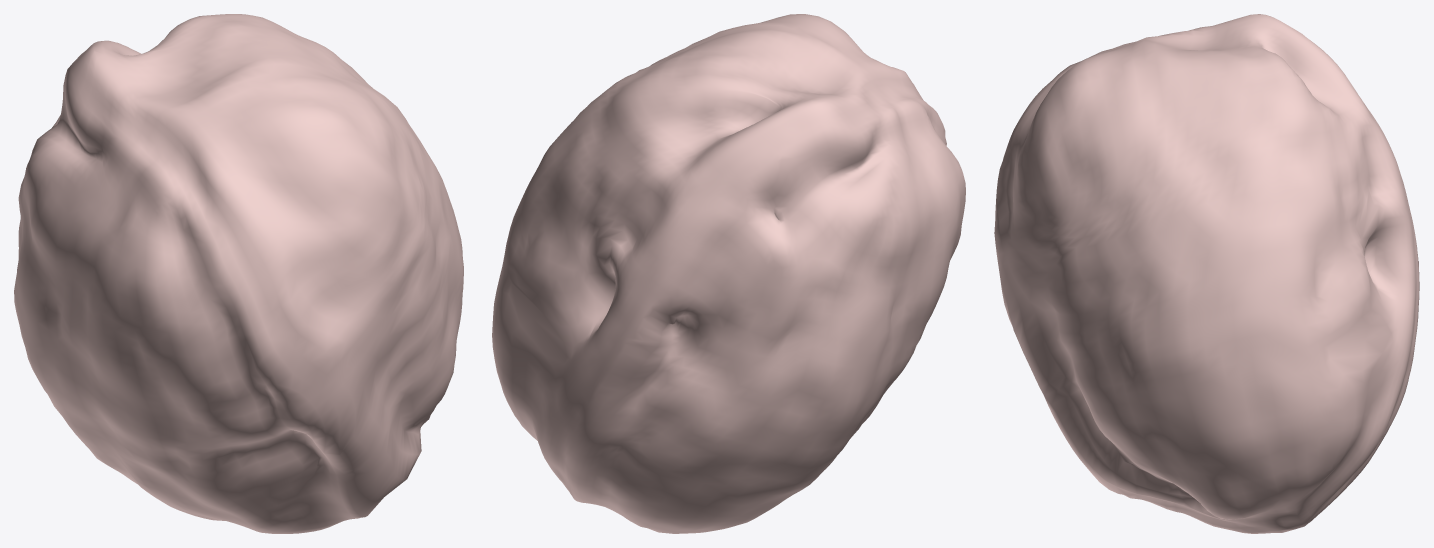
File: walnut_smooth.glb
3 renders of one model, left to right at view 1: azimuth 30°, elevation 25°; view 2: azimuth 150°, elevation 25°; view 3: azimuth 270°, elevation 25°, orthographic. The views are drawn at different scales.
Parts seen in each view (by area): view 1: Walnut_Skin_LP Remeshed; view 2: Walnut_Skin_LP Remeshed; view 3: Walnut_Skin_LP Remeshed.
Part boxes in pixels (x1,y1,x2,y2): Walnut_Skin_LP Remeshed: (14,14,463,533); Walnut_Skin_LP Remeshed: (492,14,965,533); Walnut_Skin_LP Remeshed: (994,14,1419,533).
Size of the model in its own units: 0.0675 by 0.078 by 0.069.
